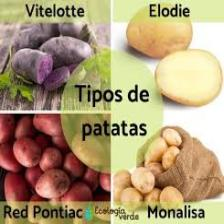Defected potato: (36, 170, 70, 196), (12, 139, 40, 169), (38, 148, 62, 173), (64, 152, 85, 180)
Potato: (127, 1, 194, 59)
